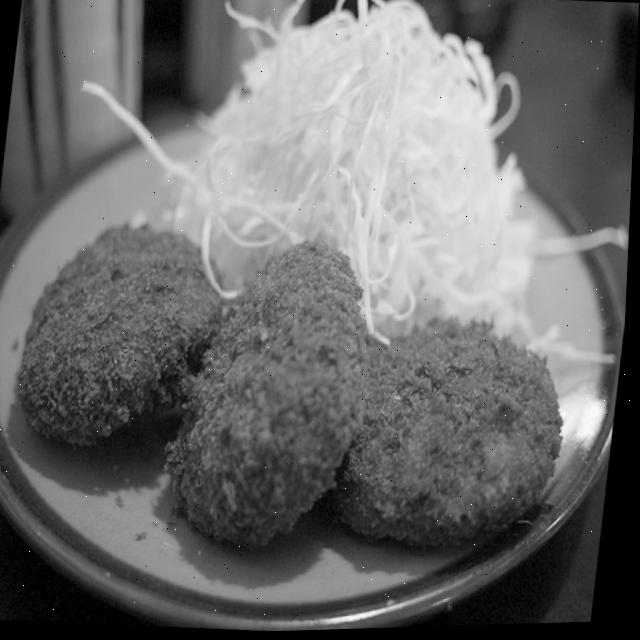炸货点心: (0, 0, 640, 621)
